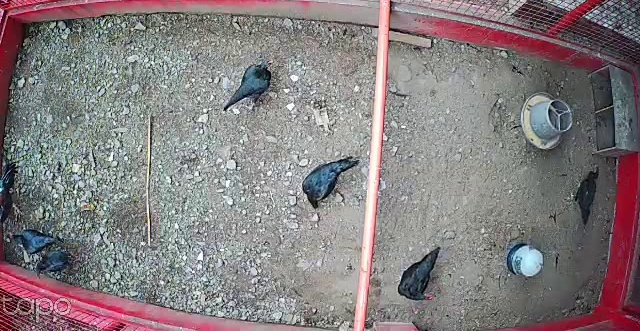Chicken: (300, 152, 359, 211), (223, 59, 280, 114), (397, 244, 441, 304), (569, 164, 601, 229), (7, 228, 66, 255), (35, 245, 75, 281)
Drinker: (506, 243, 545, 278)
Feeder: (520, 91, 574, 151)
